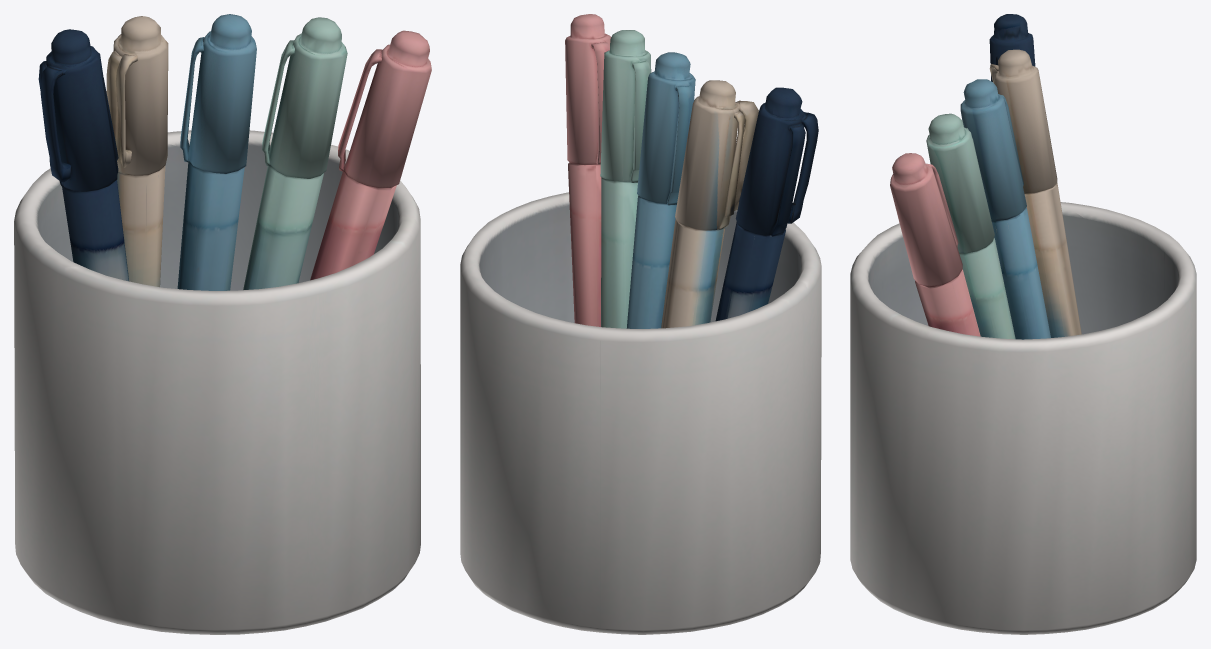
Rendered from small_pen_holder.glb.
The picture shows the model from 3 angles, left to right: view 1: azimuth 30°, elevation 25°; view 2: azimuth 150°, elevation 25°; view 3: azimuth 270°, elevation 25°; orthographic projection. The views are drawn at different scales.
Parts seen in each view (by area): view 1: tripo_node_0a1ef098-b268-481b-813b-c4a5ead90adc; view 2: tripo_node_0a1ef098-b268-481b-813b-c4a5ead90adc; view 3: tripo_node_0a1ef098-b268-481b-813b-c4a5ead90adc.
Part boxes in pixels (x1,y1,x2,y2): tripo_node_0a1ef098-b268-481b-813b-c4a5ead90adc: [14, 14, 431, 634]; tripo_node_0a1ef098-b268-481b-813b-c4a5ead90adc: [460, 14, 821, 634]; tripo_node_0a1ef098-b268-481b-813b-c4a5ead90adc: [850, 14, 1196, 634].
Bounding box in the file's own units: 0.0804 × 0.1198 × 0.078.
Materials: 1 (1 with a texture image).
